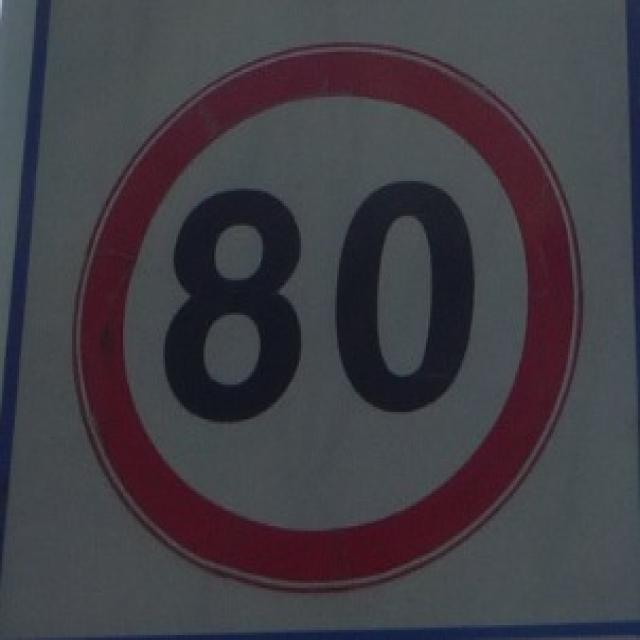Speed Limit -80-: (162, 176, 478, 426)
